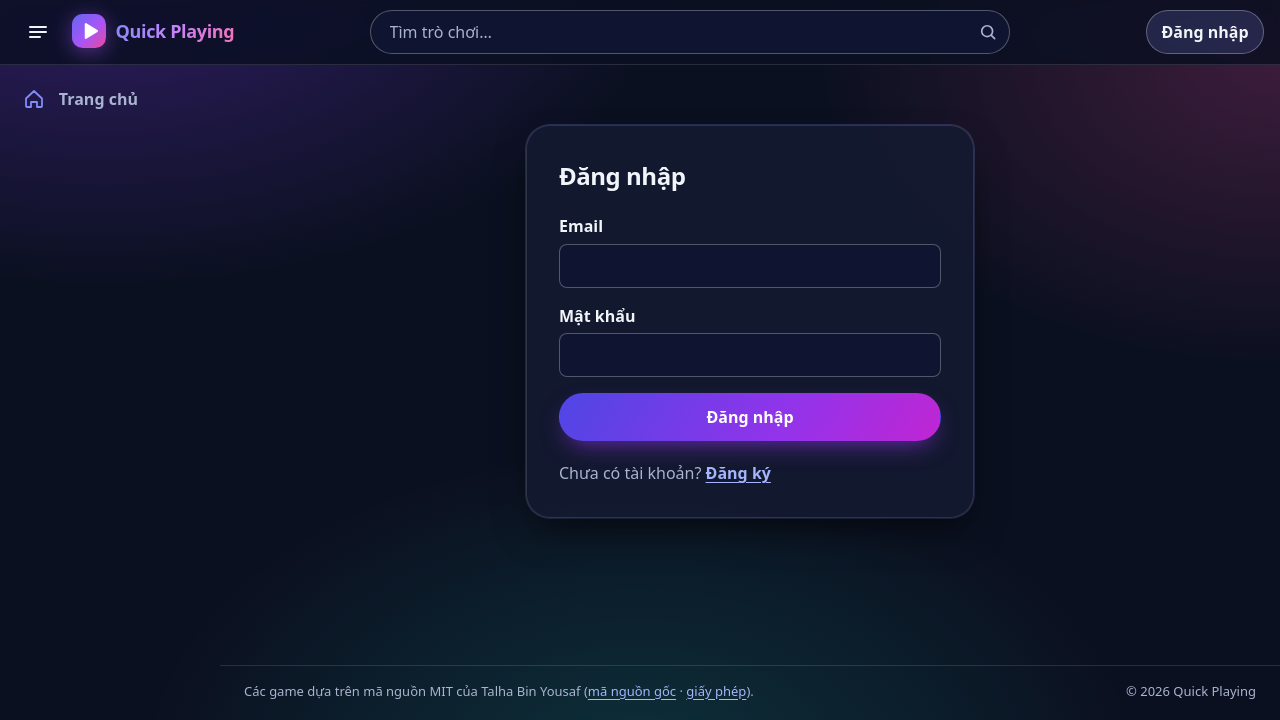
Test: AC28 login page › unsafe next //evil.example goes to /
This screenshot has width=1280, height=720.
In the field with test id "login-email": coordinates (750, 266) 559,244 -> 941,288, type "lan@example.com"
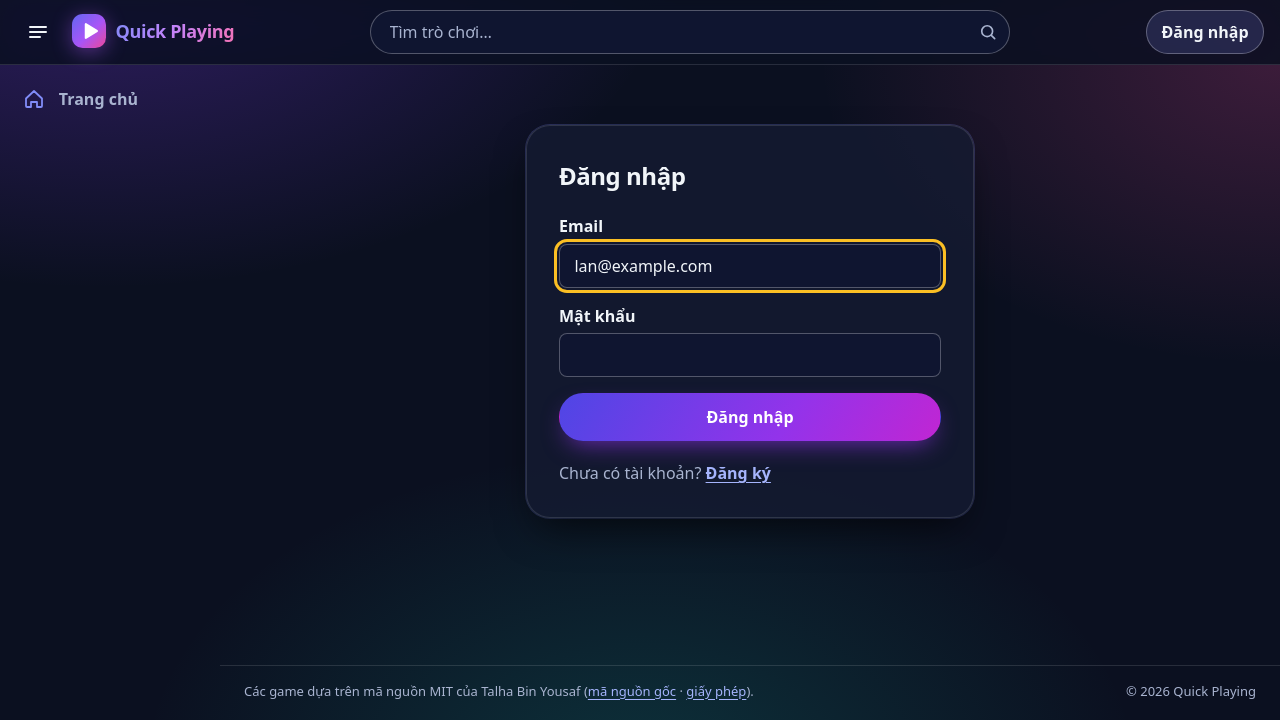
In the password field with test id "login-password": coordinates (750, 355) 559,333 -> 941,377, type "mat-khau-dai-9"
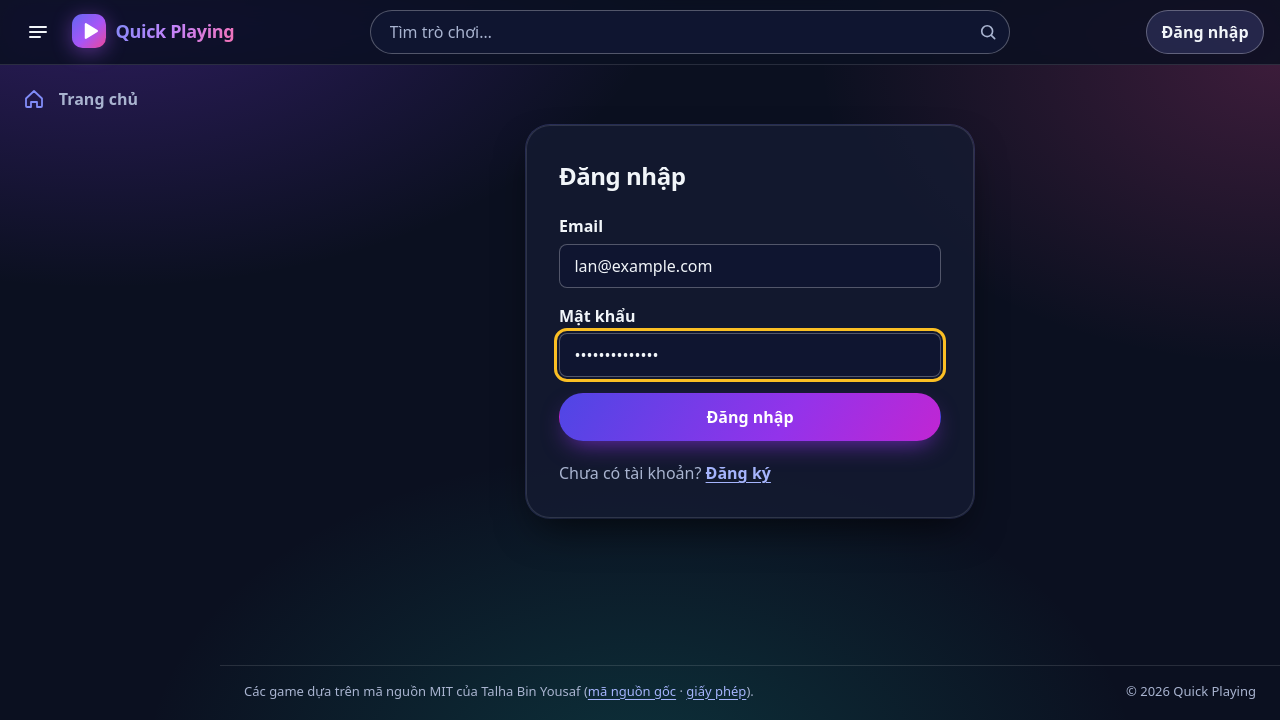
Click the button with test id "login-submit": coordinates (750, 417) 559,393 -> 941,441
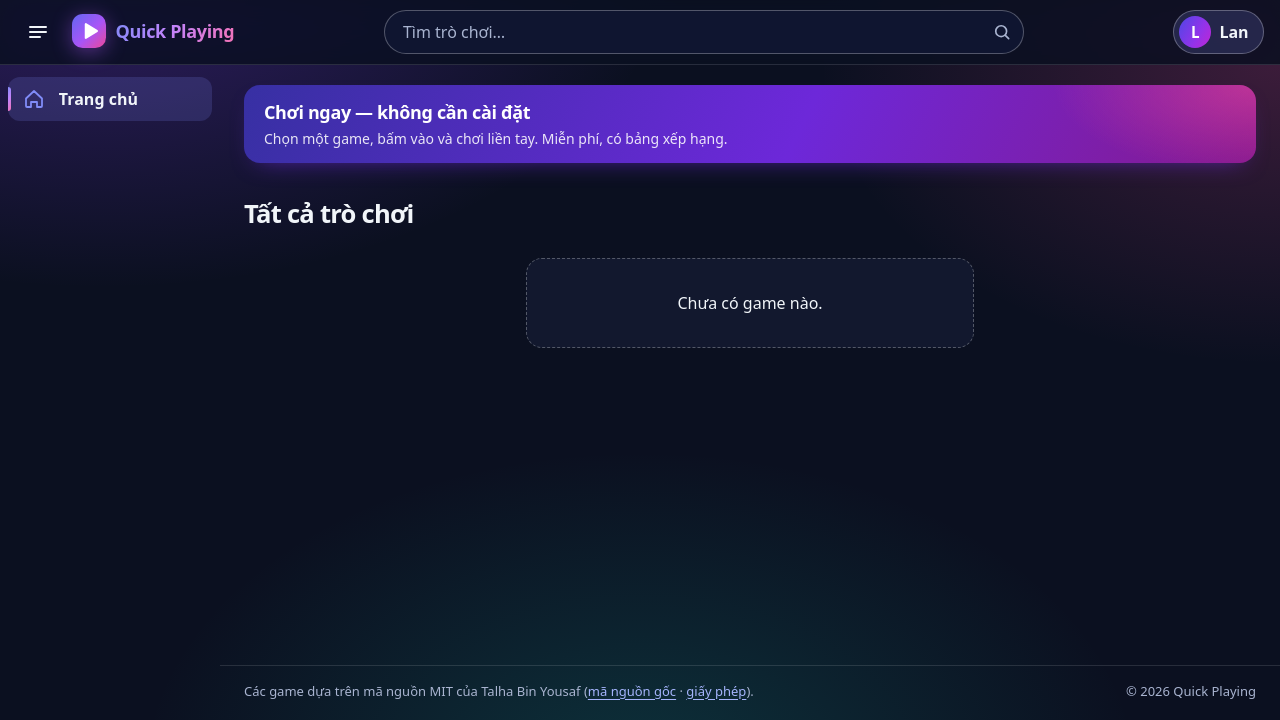
Result: the button with test id "user-menu-button" is shown at 1173,10 -> 1264,54
